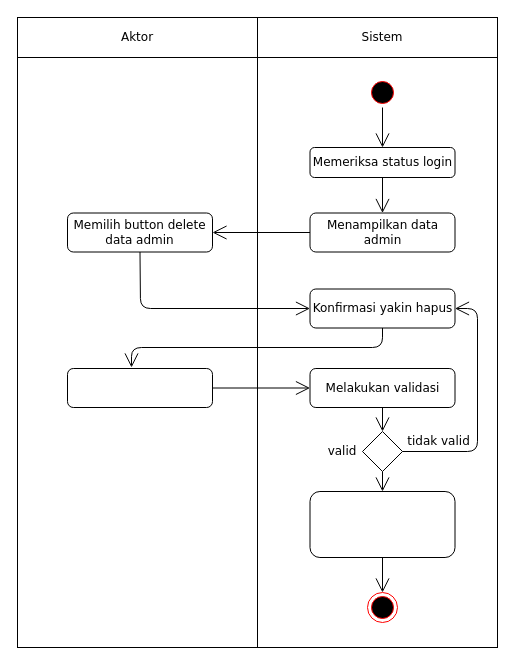
This 515x665 diagram has some shape labels left out. The shapes that lost their labels are listed below. From the top down, each one's centre as x and y in pixels, then its label:
At pixel 139 388: "Menginput data admin".
At pixel 382 524: "Menyimpan data admin ke database dan menampilkan data admin".
